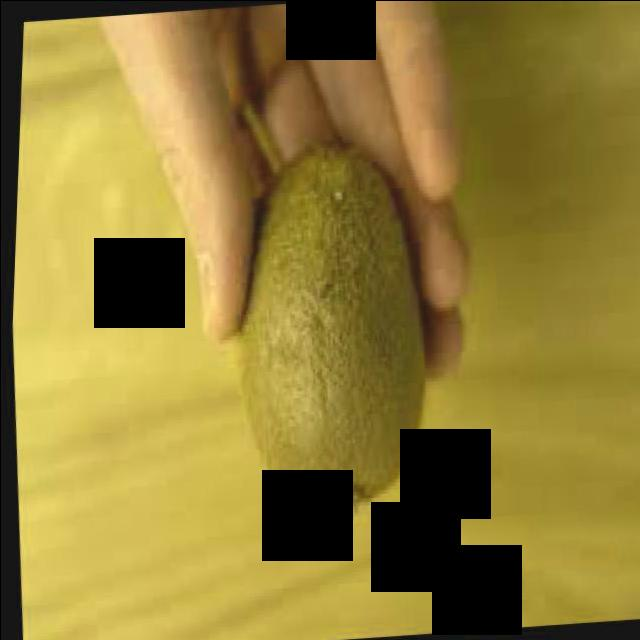kiwi: (213, 139, 436, 525)
